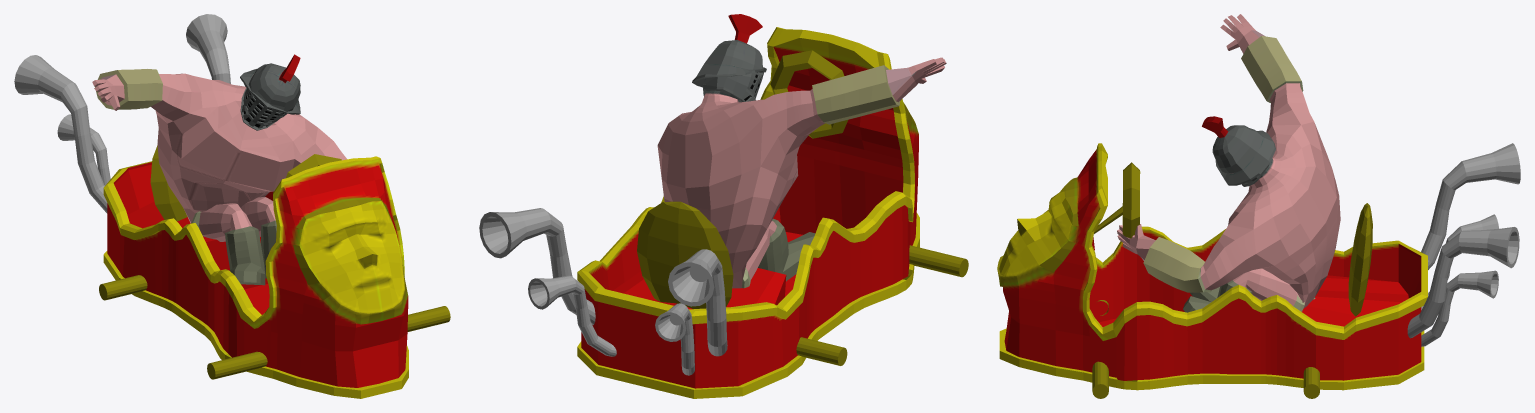
Rendered from gladiVacile_000547.obj.
The picture shows the model from 3 angles, left to right: view 1: azimuth 30°, elevation 25°; view 2: azimuth 150°, elevation 25°; view 3: azimuth 270°, elevation 25°; orthographic projection. The views are drawn at different scales.
Parts seen in each view (by area): view 1: GladiChasis_GladiChasisH, Gadiador_Gladiador_H.001, GladiTubos_GladiTubosH, GladiVolante_GladiVolanteH; view 2: GladiChasis_GladiChasisH, Gadiador_Gladiador_H.001, GladiTubos_GladiTubosH, GladiVolante_GladiVolanteH; view 3: GladiChasis_GladiChasisH, Gadiador_Gladiador_H.001, GladiTubos_GladiTubosH, GladiVolante_GladiVolanteH.
Boxes of the visible parts, x1,y1,x2,y2 form: GladiChasis_GladiChasisH: (103,156,408,398); Gadiador_Gladiador_H.001: (92,54,346,285); GladiTubos_GladiTubosH: (14,14,230,213); GladiVolante_GladiVolanteH: (99,145,450,379); GladiChasis_GladiChasisH: (577,27,919,398); Gadiador_Gladiador_H.001: (657,14,946,288); GladiTubos_GladiTubosH: (479,208,727,375); GladiVolante_GladiVolanteH: (637,50,968,365); GladiChasis_GladiChasisH: (997,143,1427,390); Gadiador_Gladiador_H.001: (1117,14,1340,312); GladiTubos_GladiTubosH: (1407,143,1520,346); GladiVolante_GladiVolanteH: (1092,162,1372,398).
Bounding box in the file's own units: 6.61 × 5.85 × 10.78.
